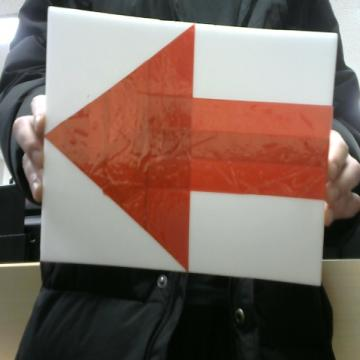red_left: (46, 24, 332, 270)
